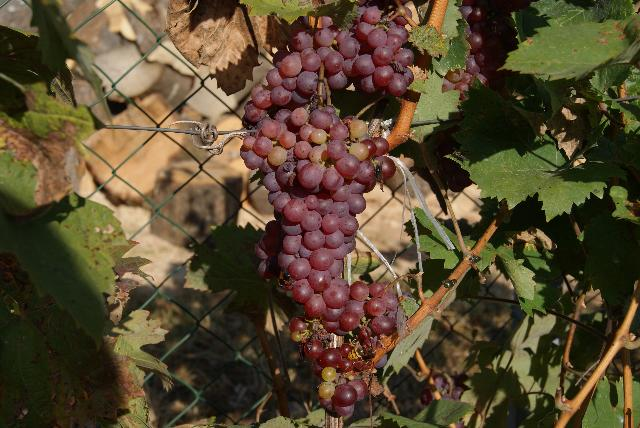grapes: (240, 105, 396, 289), (245, 4, 415, 128), (290, 279, 399, 416)
